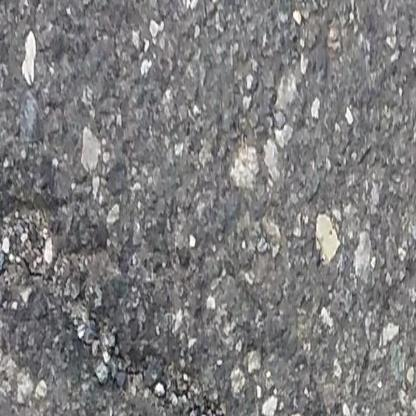Cracks: (0, 202, 240, 416)
